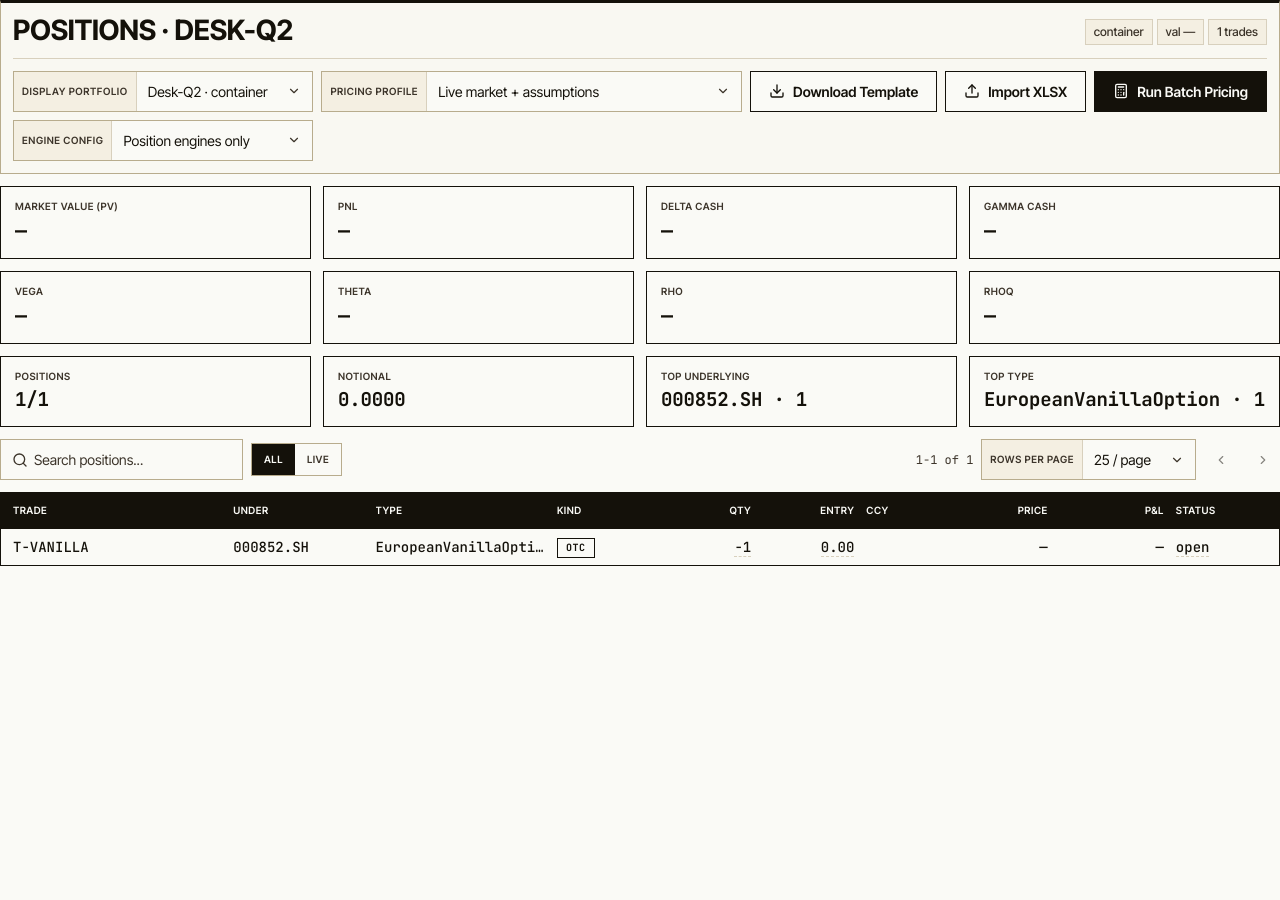
Scenario: PositionsLive › keeps the position detail dialog open after single-position pricing completes
Click the text "T-VANILLA". click: (51, 547)
box: x1=13 y1=538 x2=89 y2=556
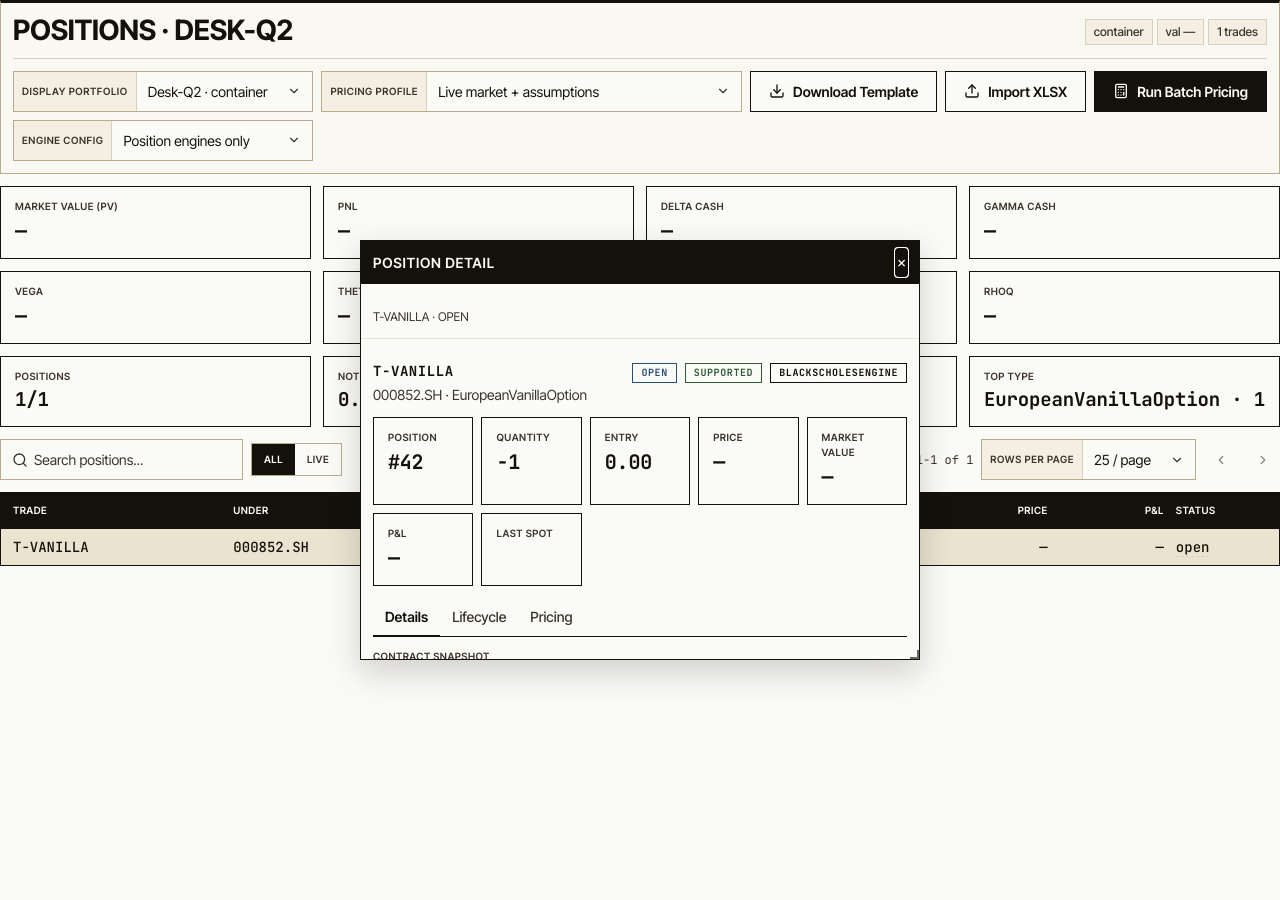
Click the tab "Pricing". click: (551, 617)
box: x1=518 y1=598 x2=584 y2=637
(page scrolled)
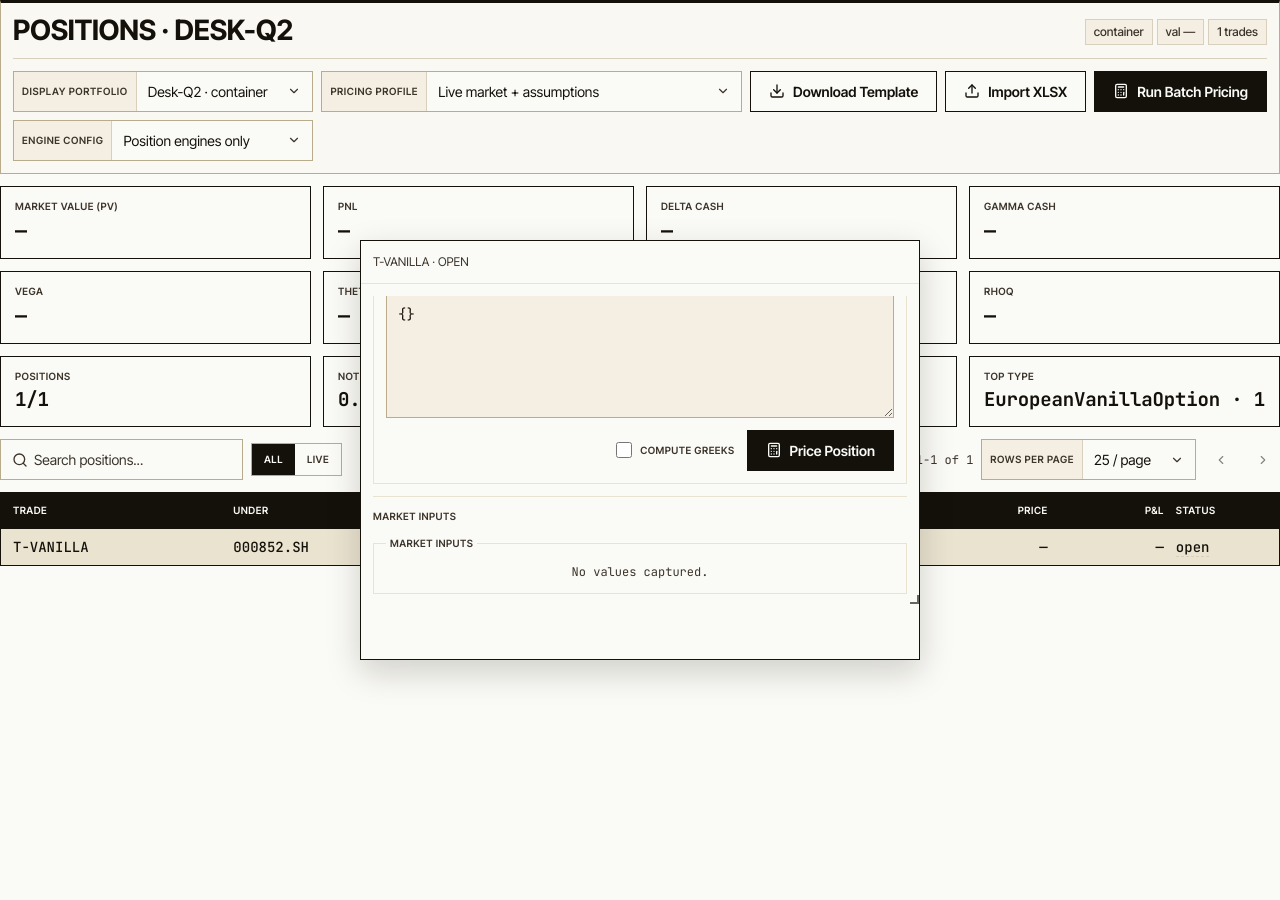
Click the button "Price Position". click: (820, 450)
box: x1=746 y1=430 x2=894 y2=471
(page scrolled)
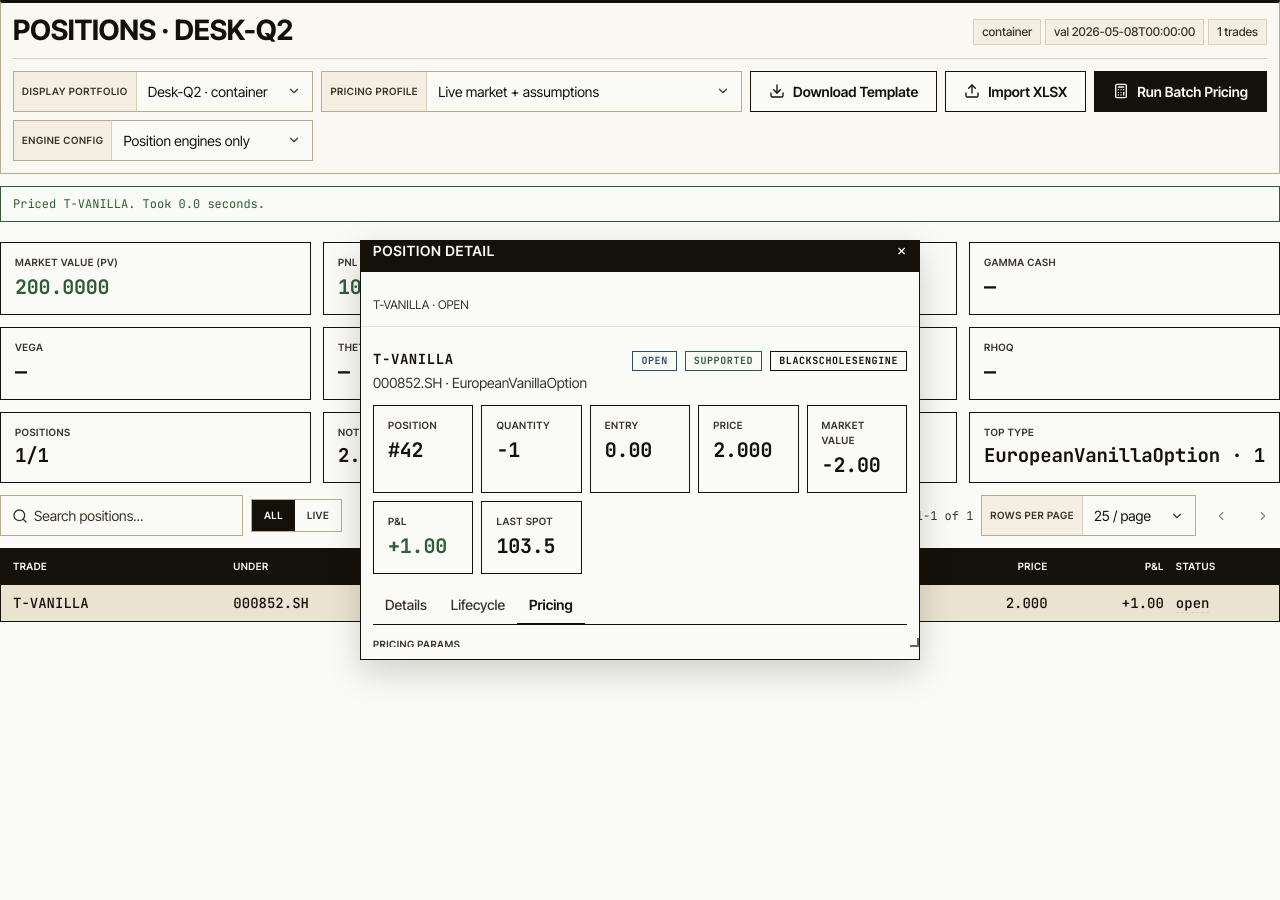
Expected: the text "Priced T-VANILLA. Took 0.0 seconds." is shown, x1=0 y1=186 x2=1279 y2=222
Expected: the dialog "Position Detail" is shown, x1=360 y1=240 x2=920 y2=660
Expected: the text "2.000" is shown, x1=713 y1=437 x2=772 y2=463
